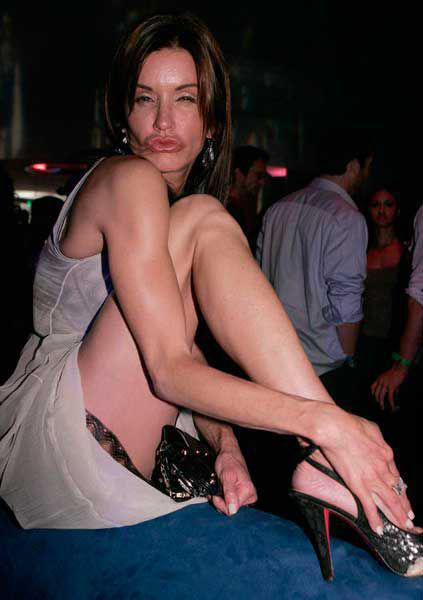Drunk: (133, 44, 203, 167)
